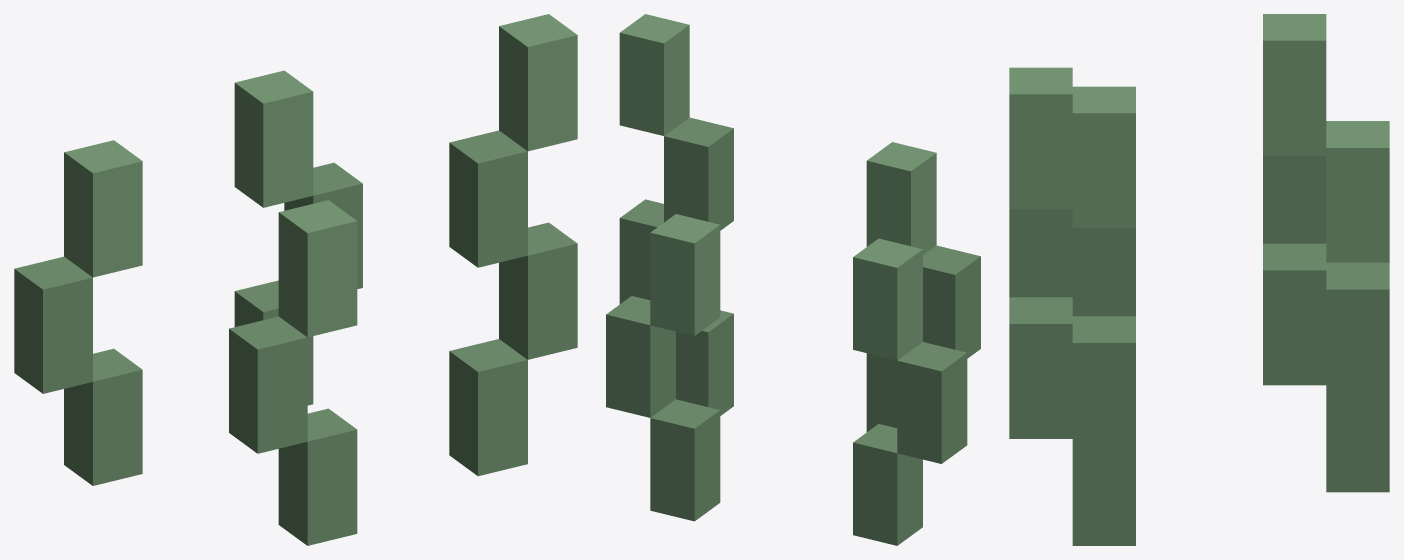
Rendered from alga_parda_02.glb.
3 views of the same model, side by side, from view 1: azimuth 30°, elevation 25°; view 2: azimuth 150°, elevation 25°; view 3: azimuth 270°, elevation 25° (orthographic). The views are drawn at different scales.
Parts seen in each view (by area): view 1: alga_parda_02; view 2: alga_parda_02; view 3: alga_parda_02.
Part boxes in pixels (bbox=[...]): alga_parda_02: bbox=[14, 14, 577, 545]; alga_parda_02: bbox=[606, 14, 980, 545]; alga_parda_02: bbox=[1009, 14, 1389, 545].
Size of the model in its own units: 0.9 by 0.8 by 0.6.
